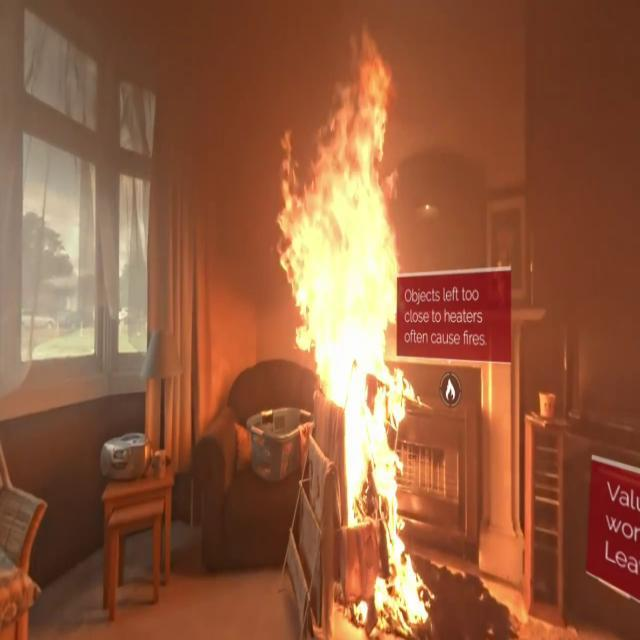Fire: (279, 45, 426, 624)
